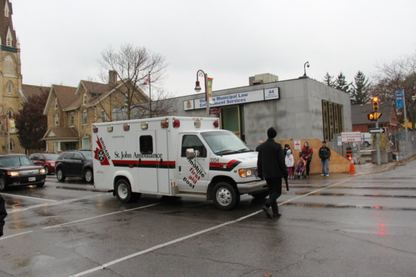ambulance: (92, 116, 274, 212)
